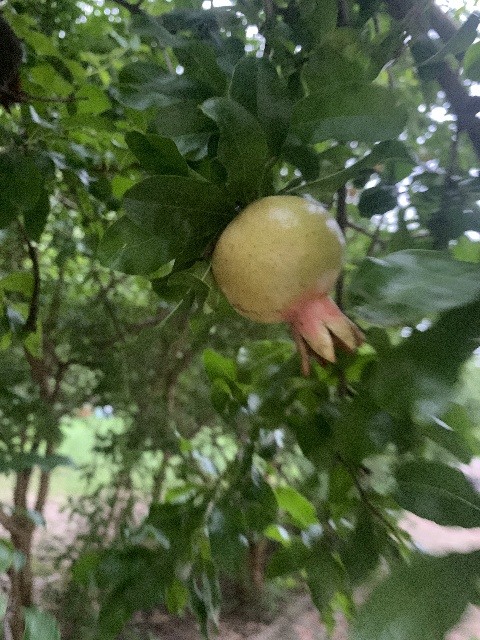mid-growth: (211, 194, 366, 375)
